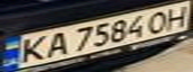4: (124, 12, 151, 39)
5: (90, 20, 115, 48)
7: (69, 24, 97, 53)
8: (109, 17, 133, 44)
A: (39, 29, 72, 58)
H: (160, 2, 193, 29)
K: (12, 34, 51, 65)
O: (142, 8, 175, 34)
